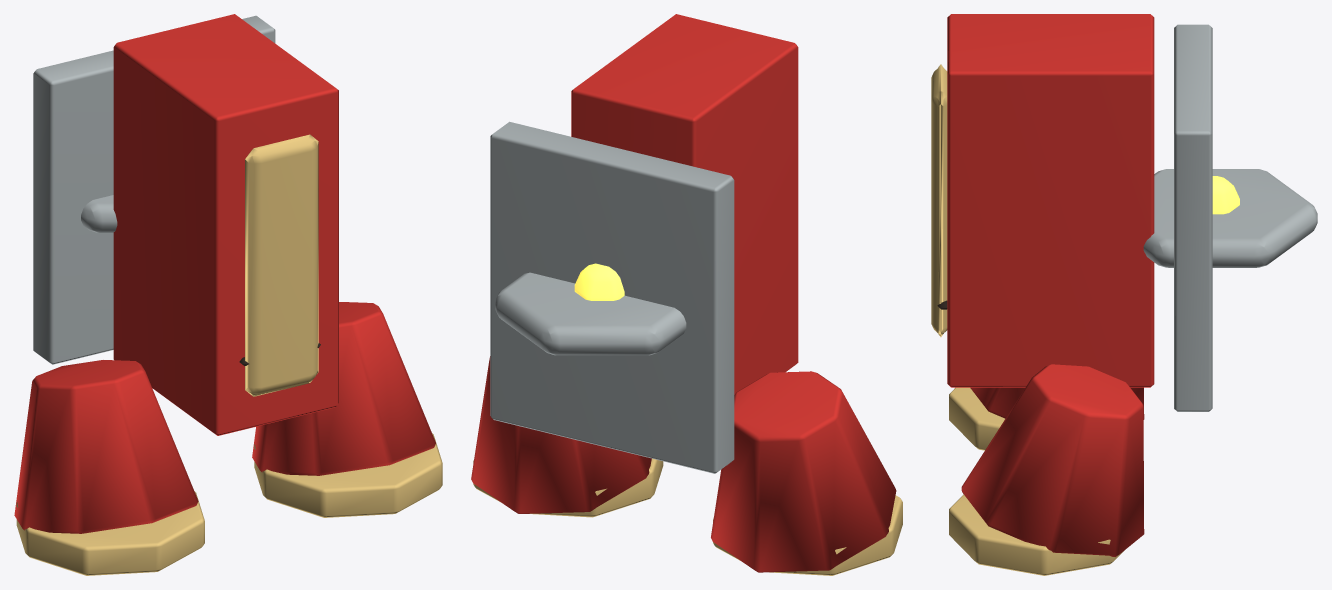
Rendered from boldheart_back_rocketspine.glb.
The picture shows the model from 3 angles, left to right: view 1: azimuth 30°, elevation 25°; view 2: azimuth 150°, elevation 25°; view 3: azimuth 270°, elevation 25°; orthographic projection.
Parts seen in each view (by area): view 1: boldheart_back_rocketspine; view 2: boldheart_back_rocketspine; view 3: boldheart_back_rocketspine.
Boxes of the visible parts, x1,y1,x2,y2 form: boldheart_back_rocketspine: (14, 14, 442, 575); boldheart_back_rocketspine: (471, 14, 902, 575); boldheart_back_rocketspine: (931, 14, 1317, 575).
Size of the model in its own units: 0.7154 by 0.7575 by 0.5975.
Materials: 1 (1 with a texture image).
